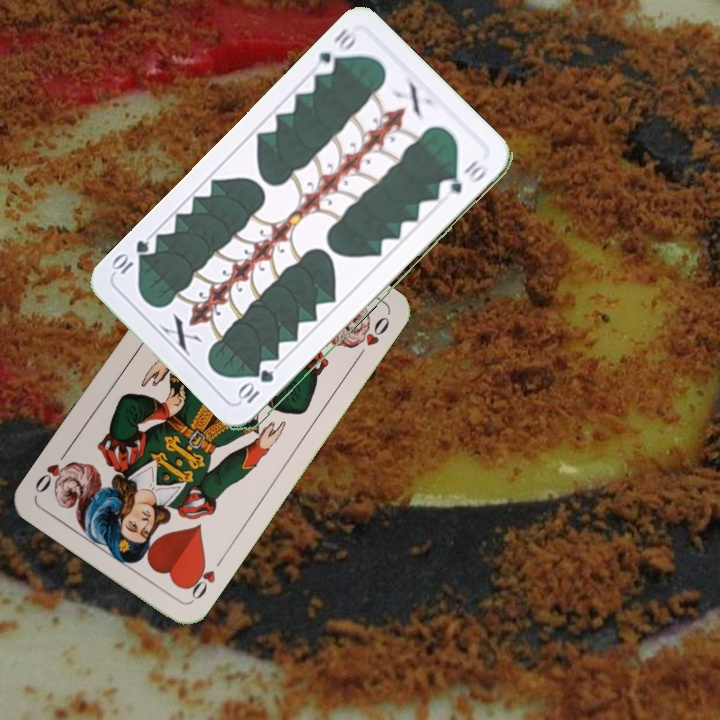G10: (310, 25, 361, 78), (236, 366, 277, 406)
HO: (182, 553, 227, 604)
